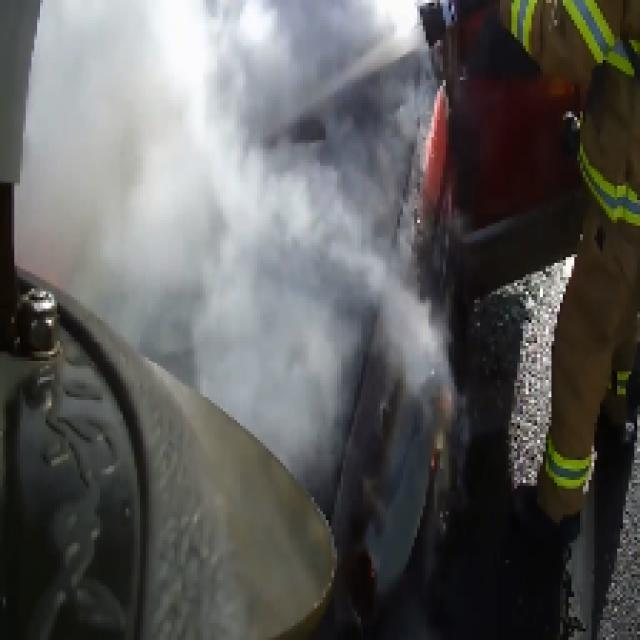Smoke: (17, 0, 500, 509)
